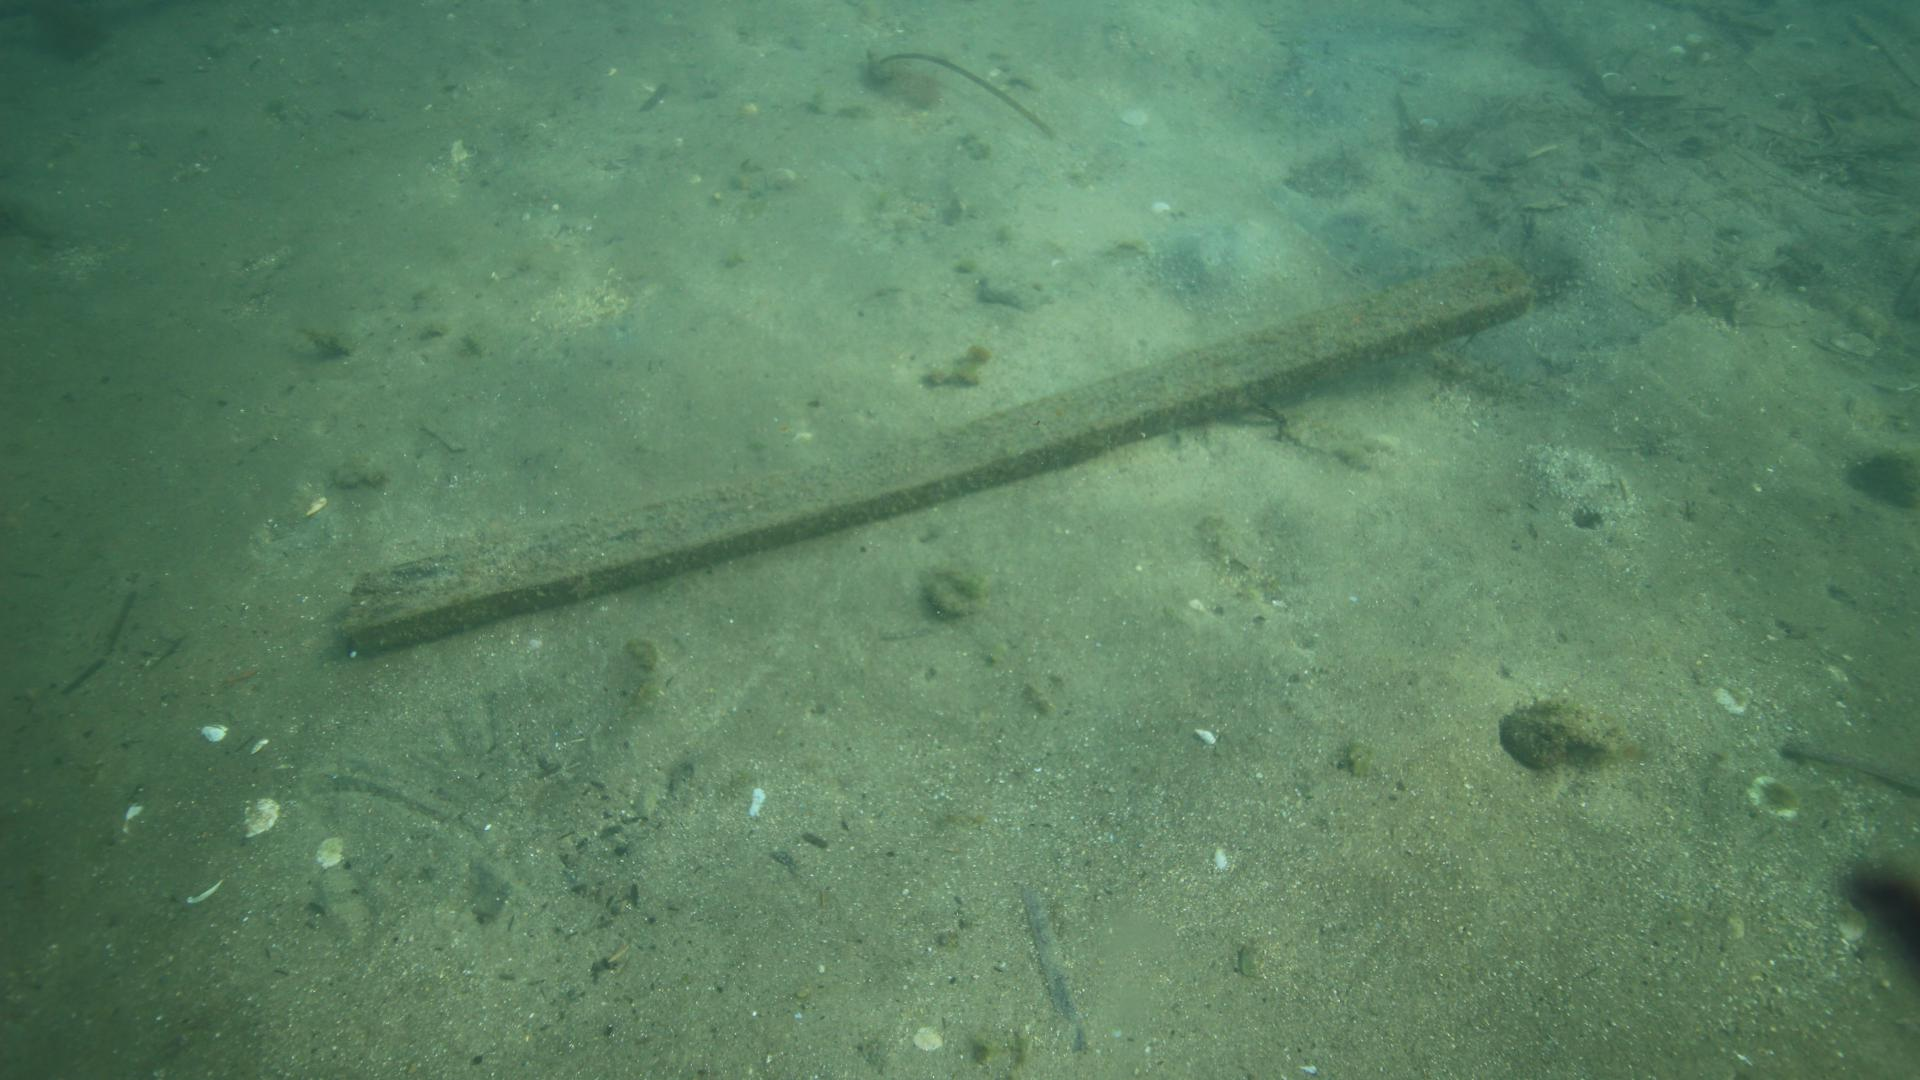wood: (326, 255, 1536, 653)
